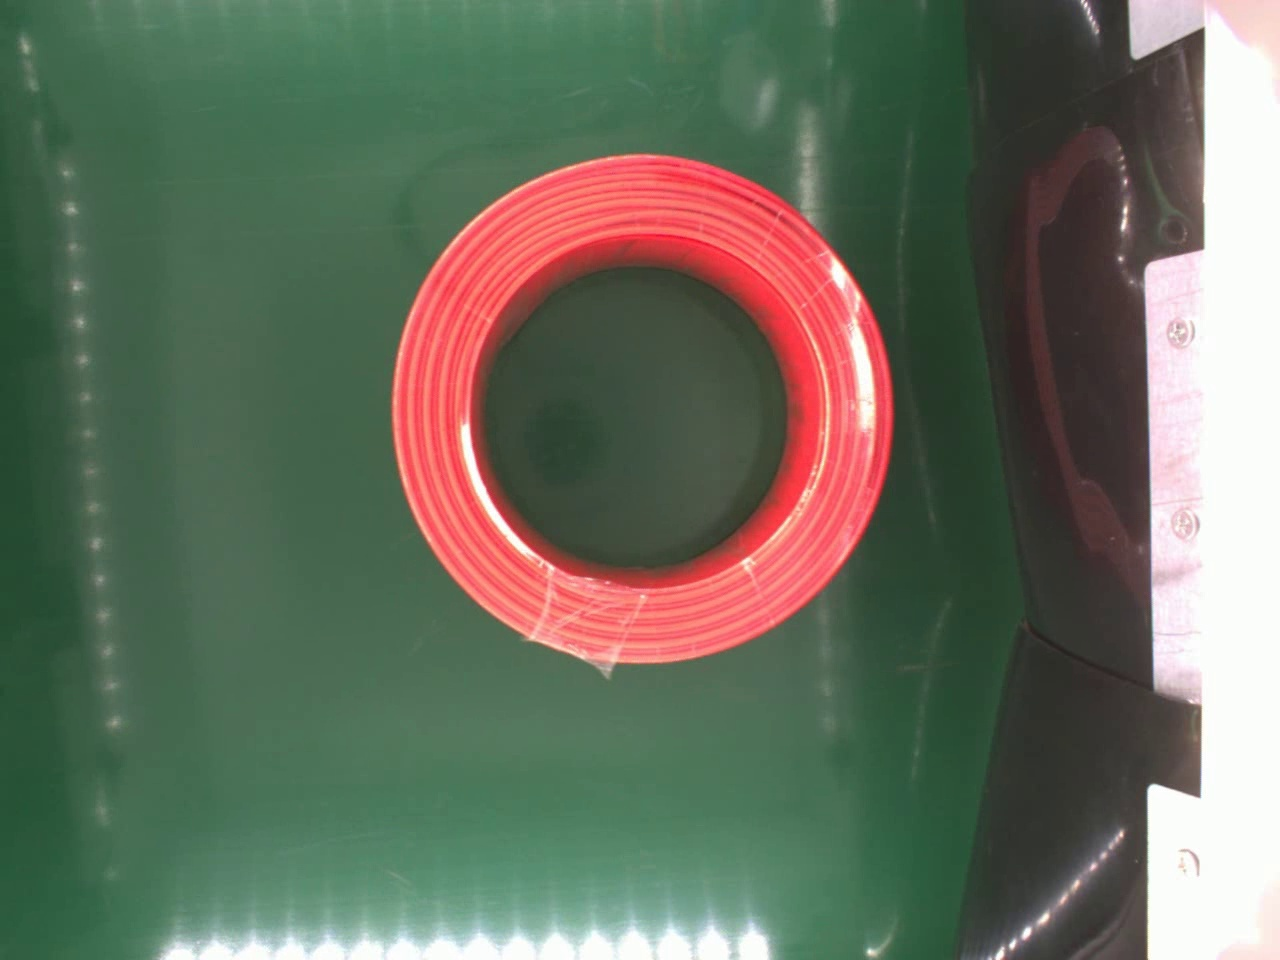red: (390, 151, 893, 666)
